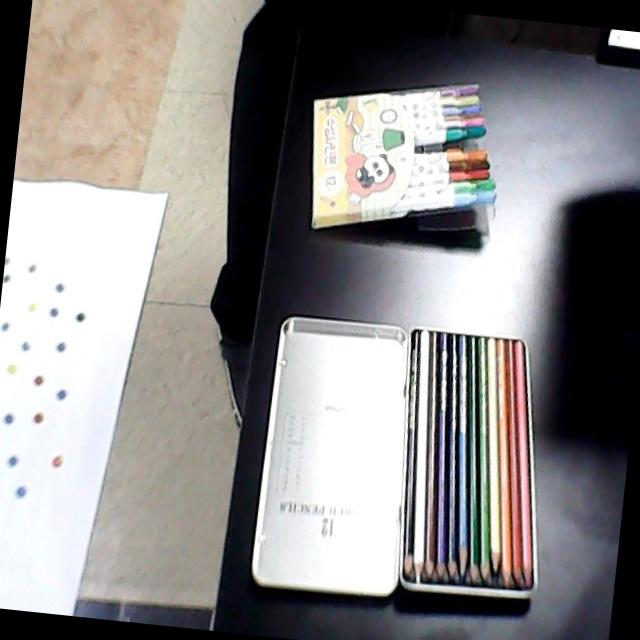color: (391, 317, 543, 605)
signpen: (307, 77, 503, 235)
